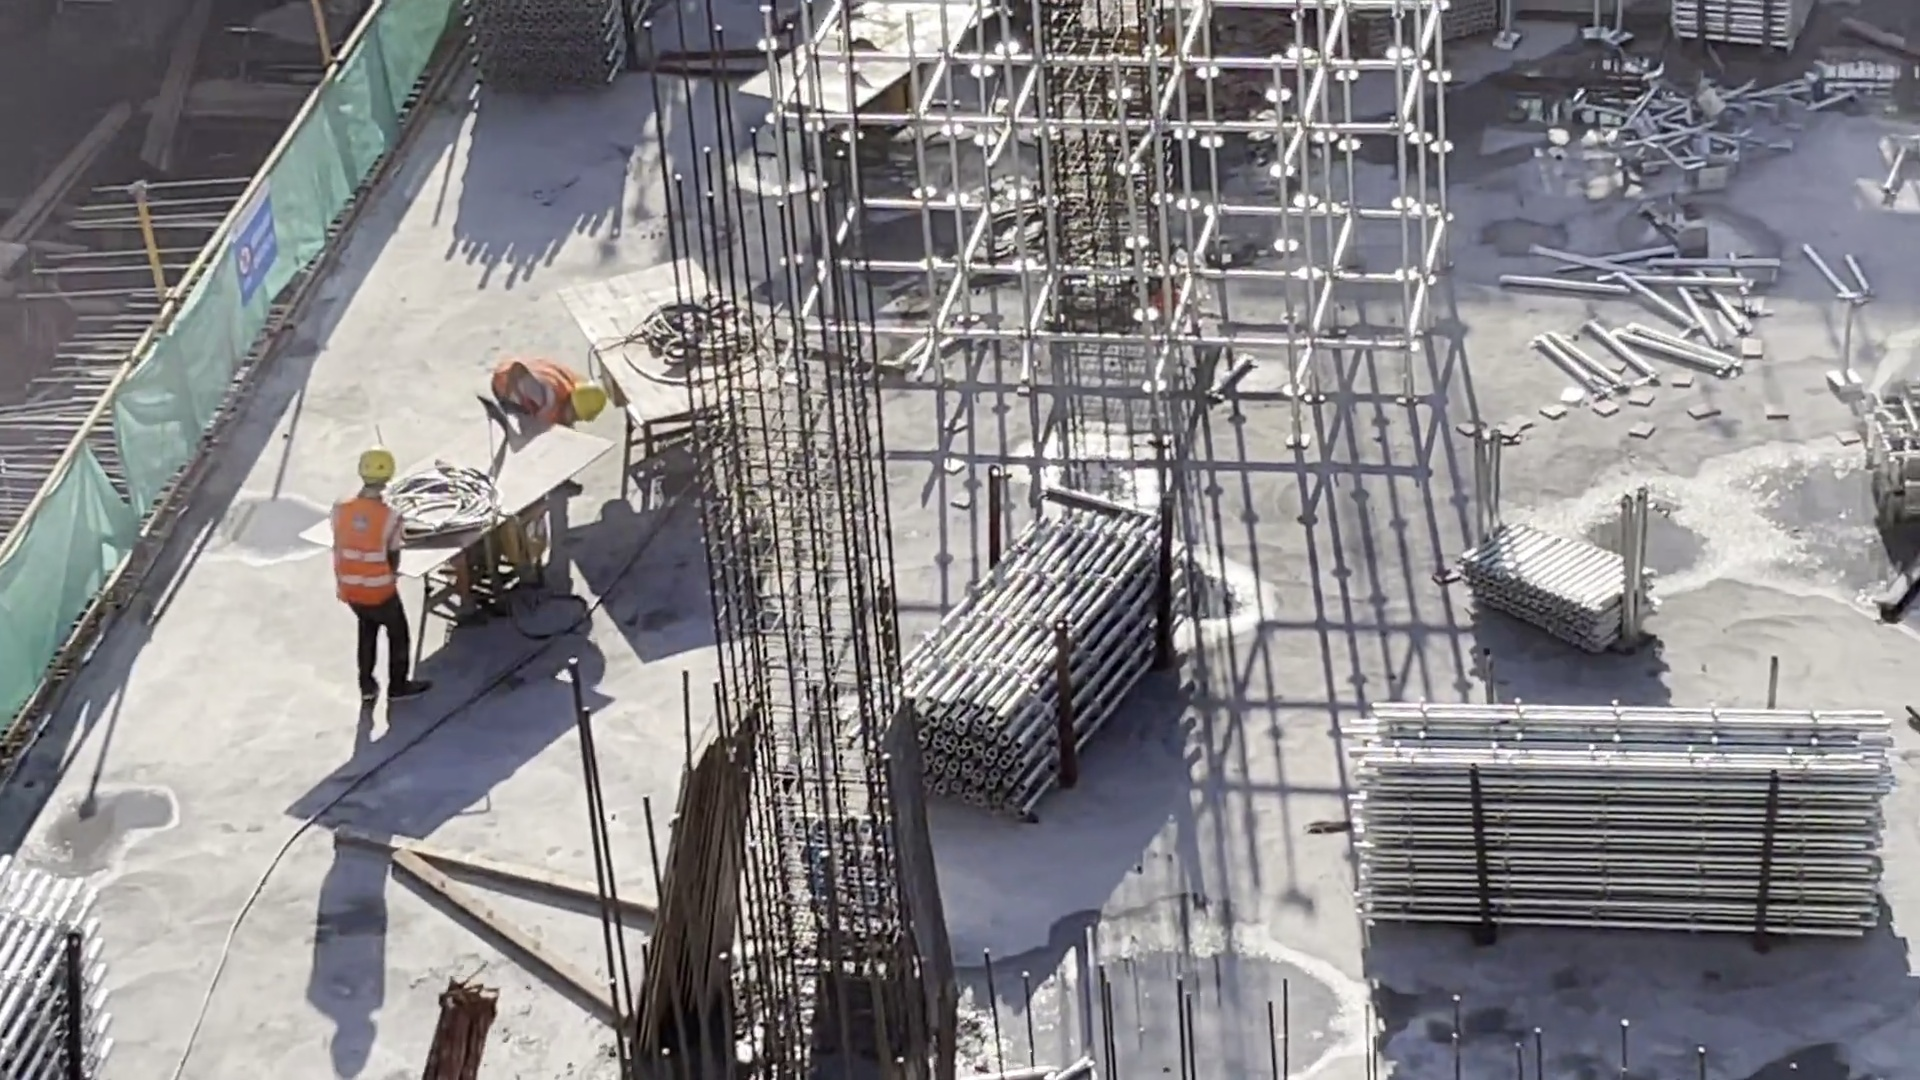board: (628, 705, 756, 1076)
cutter: (558, 256, 814, 501), (380, 406, 619, 658), (741, 6, 993, 183)
helmet: (355, 443, 403, 487), (573, 379, 606, 430)
person: (336, 442, 429, 702), (474, 356, 611, 446)
scaffold: (1359, 708, 1895, 931), (891, 511, 1158, 842), (1459, 516, 1639, 649), (1597, 80, 1796, 188), (469, 3, 625, 108), (1875, 349, 1920, 540), (1677, 1, 1802, 61)
slogan: (225, 163, 289, 319)
vest: (330, 502, 404, 606), (485, 354, 575, 422)
